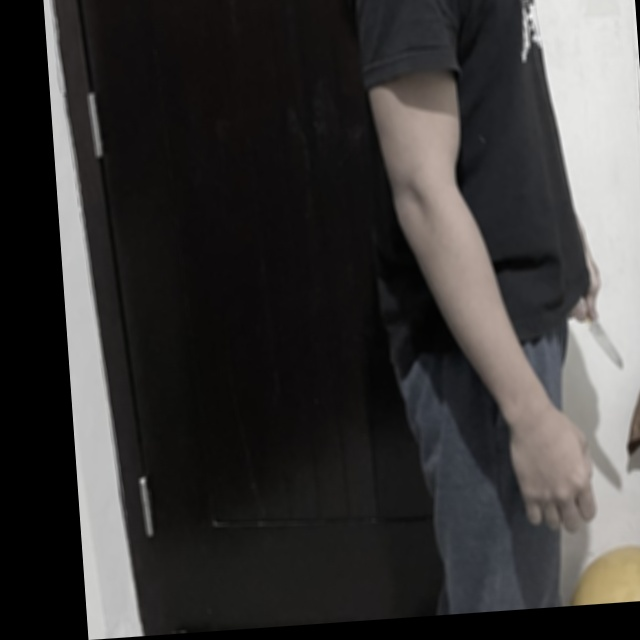Sharp-Object: (585, 316, 625, 374)
